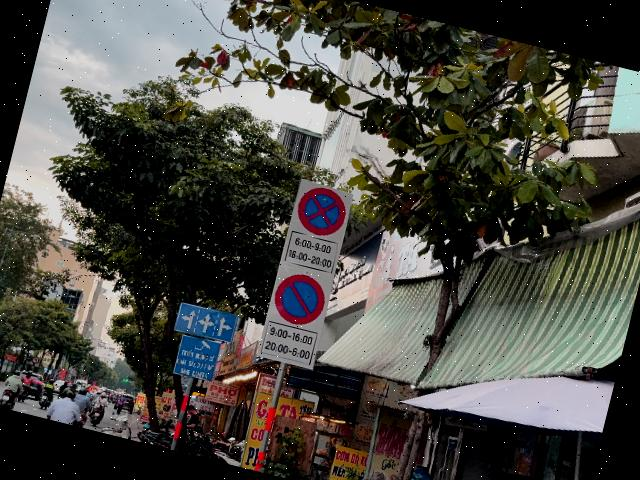cam-do-xe: (269, 270, 330, 330)
cam-dung-va-do-xe: (292, 183, 352, 240)
